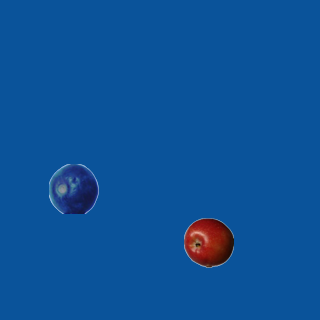Apple Braeburn: (183, 217, 233, 267)
Huckleberry: (48, 163, 98, 213)
